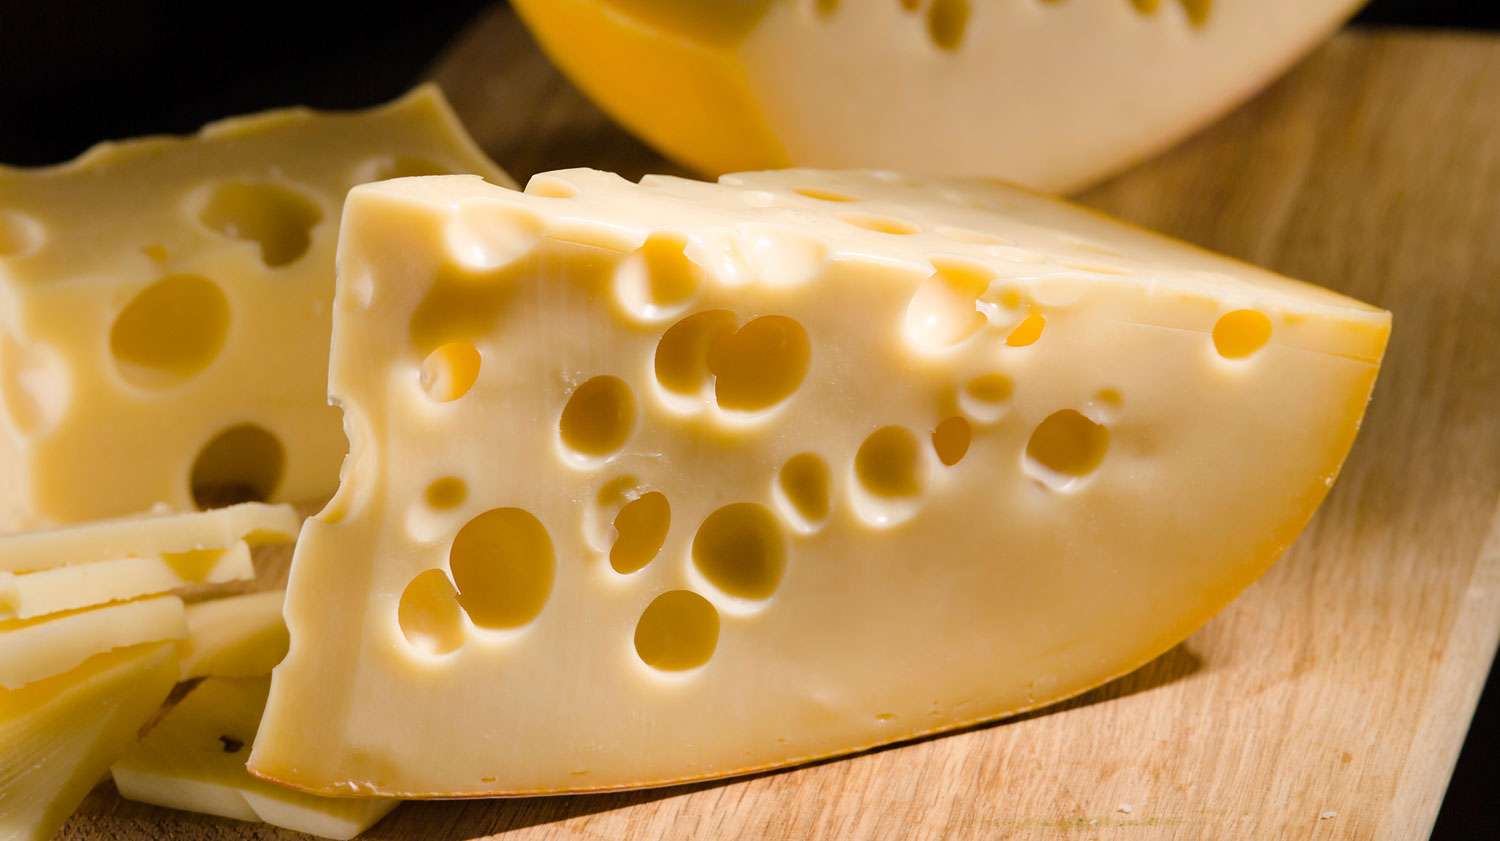cheese: (279, 145, 1419, 831), (1, 86, 503, 748)
